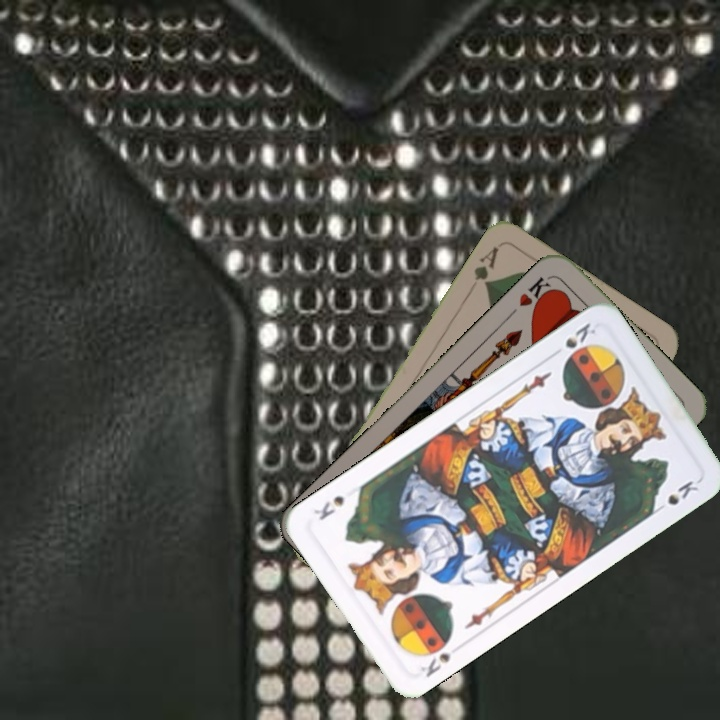GA: (469, 242, 502, 290)
HK: (515, 273, 557, 313)
SK: (547, 318, 599, 360), (416, 649, 453, 680)
